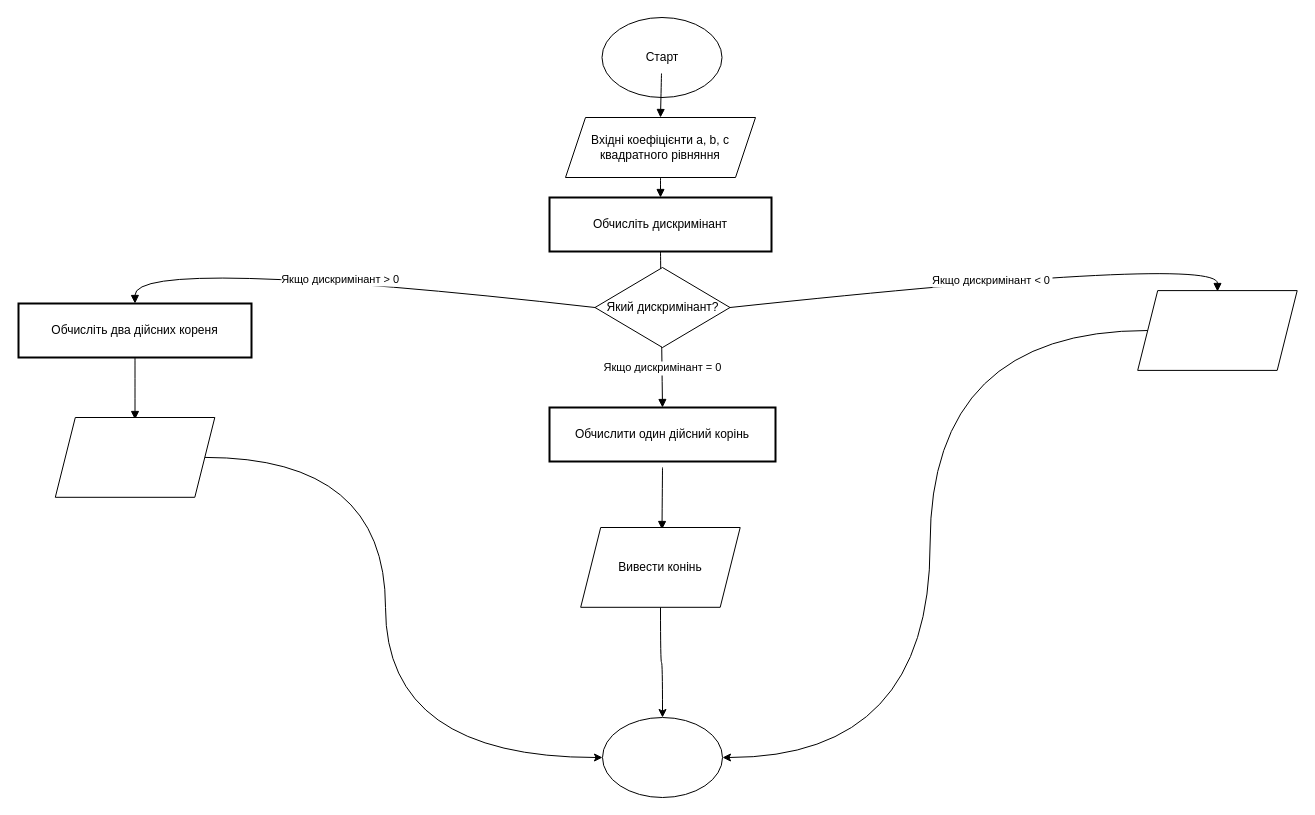
Some shapes in this 1315 by 815 pixel diagram are drawn without their labels. The centre of each missing label's shape, as x and y in pixels:
Вивести корені: (134,456)
Вивести помилку: (1217,330)
Кінець: (662,757)
